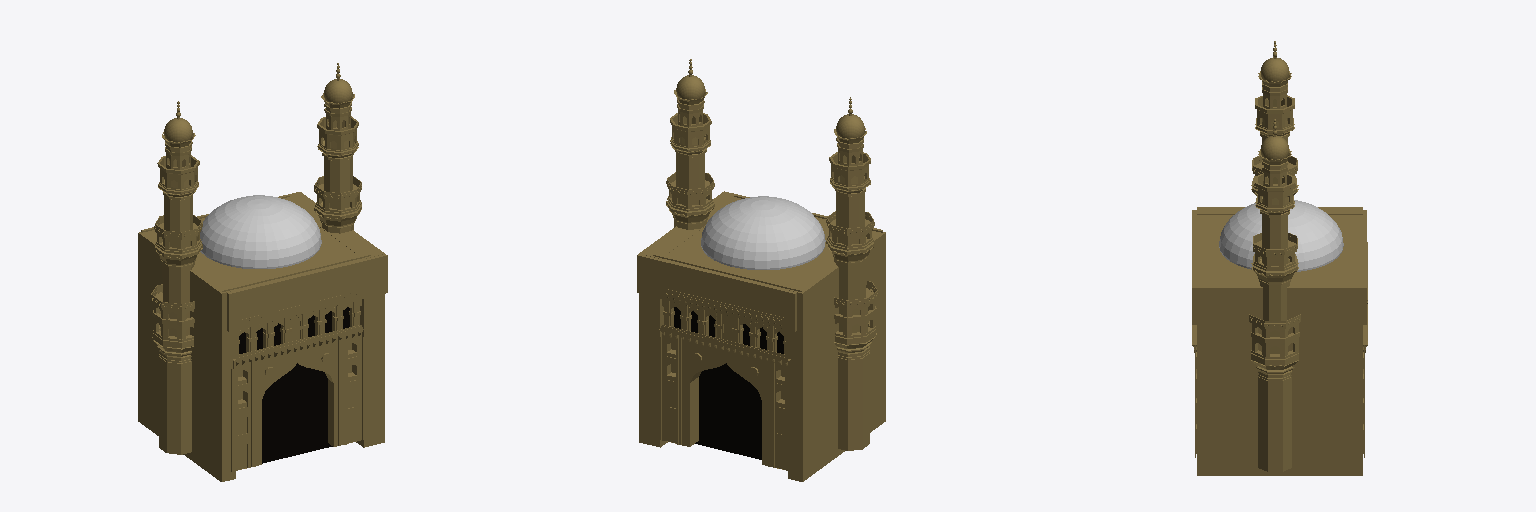
Rendered from villa_east.obj.
The picture shows the model from 3 angles: view 1: azimuth 30°, elevation 25°; view 2: azimuth 150°, elevation 25°; view 3: azimuth 270°, elevation 25°; orthographic projection.
Parts seen in each view (by area): view 1: Cube.002_Cube.004, Circle.010_Circle.011, Sphere, Cube_Cube.019; view 2: Cube.002_Cube.004, Circle.010_Circle.011, Sphere, Cube_Cube.019; view 3: Cube.002_Cube.004, Circle.010_Circle.011, Sphere.
Boxes of the visible parts, x1=… form: Cube.002_Cube.004: x1=138, y1=192, x2=387, y2=481; Circle.010_Circle.011: x1=151, y1=63, x2=361, y2=454; Sphere: x1=200, y1=195, x2=321, y2=268; Cube_Cube.019: x1=239, y1=307, x2=349, y2=463; Cube.002_Cube.004: x1=637, y1=191, x2=885, y2=481; Circle.010_Circle.011: x1=666, y1=59, x2=878, y2=450; Sphere: x1=701, y1=196, x2=825, y2=269; Cube_Cube.019: x1=674, y1=307, x2=783, y2=459; Cube.002_Cube.004: x1=1192, y1=207, x2=1367, y2=475; Circle.010_Circle.011: x1=1249, y1=41, x2=1300, y2=471; Sphere: x1=1219, y1=200, x2=1343, y2=271.
Bounding box in the file's own units: 5.69 × 9.39 × 4.23.